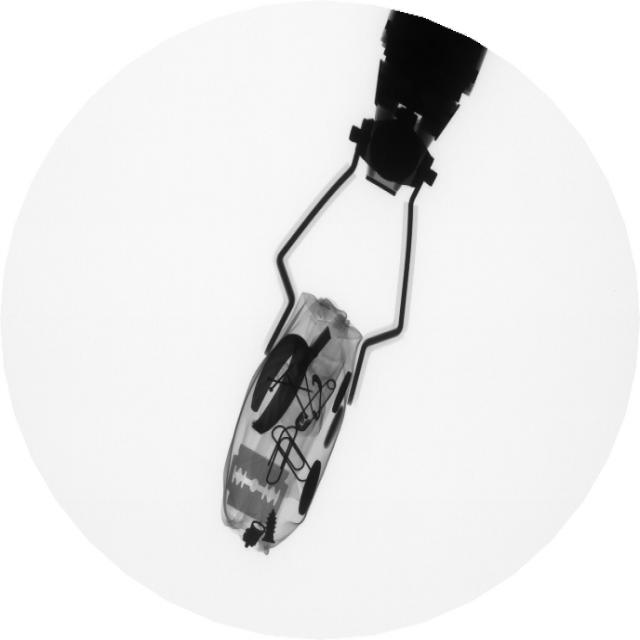BLADE: (223, 438, 288, 537)
